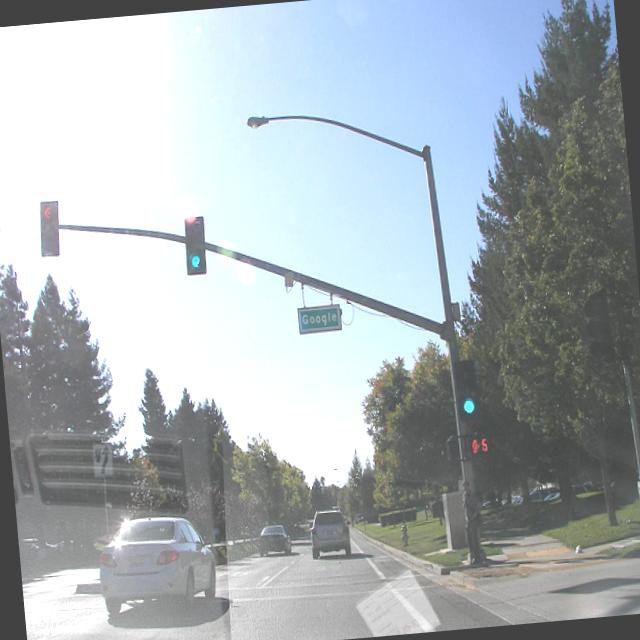Vehicle: (95, 514, 222, 623), (307, 506, 352, 558), (256, 524, 292, 558), (528, 486, 560, 500), (356, 514, 364, 524), (482, 500, 490, 506)
